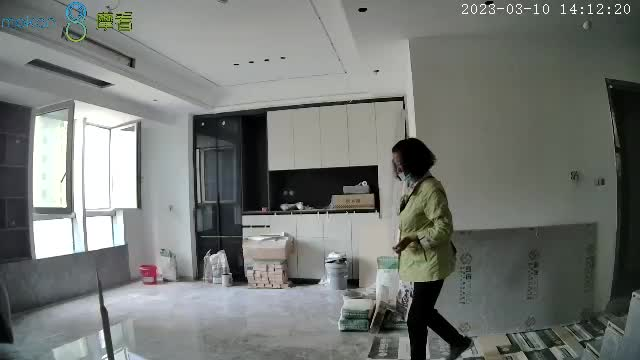people: (392, 139, 472, 360)
window: (32, 106, 134, 257)
